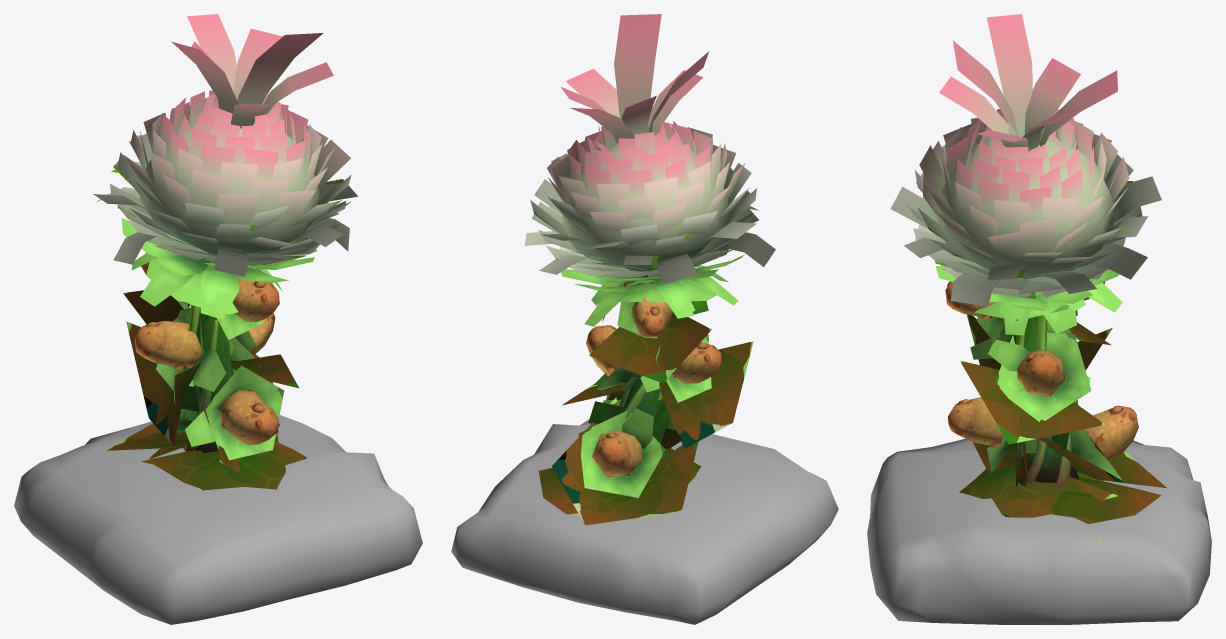
File: hvs_plantables_potato_finished.fbx
3 views of the same model, side by side, from view 1: azimuth 30°, elevation 25°; view 2: azimuth 150°, elevation 25°; view 3: azimuth 270°, elevation 25° (orthographic). The views are drawn at different scales.
Parts seen in each view (by area): view 1: hvs_plantavles_potatoplant_finished; view 2: hvs_plantavles_potatoplant_finished; view 3: hvs_plantavles_potatoplant_finished.
Boxes of the visible parts, x1,y1,x2,y2 form: hvs_plantavles_potatoplant_finished: (14, 14, 422, 624); hvs_plantavles_potatoplant_finished: (451, 14, 838, 624); hvs_plantavles_potatoplant_finished: (867, 14, 1211, 624).
Size of the model in its own units: 3.76 by 6.52 by 3.83.
